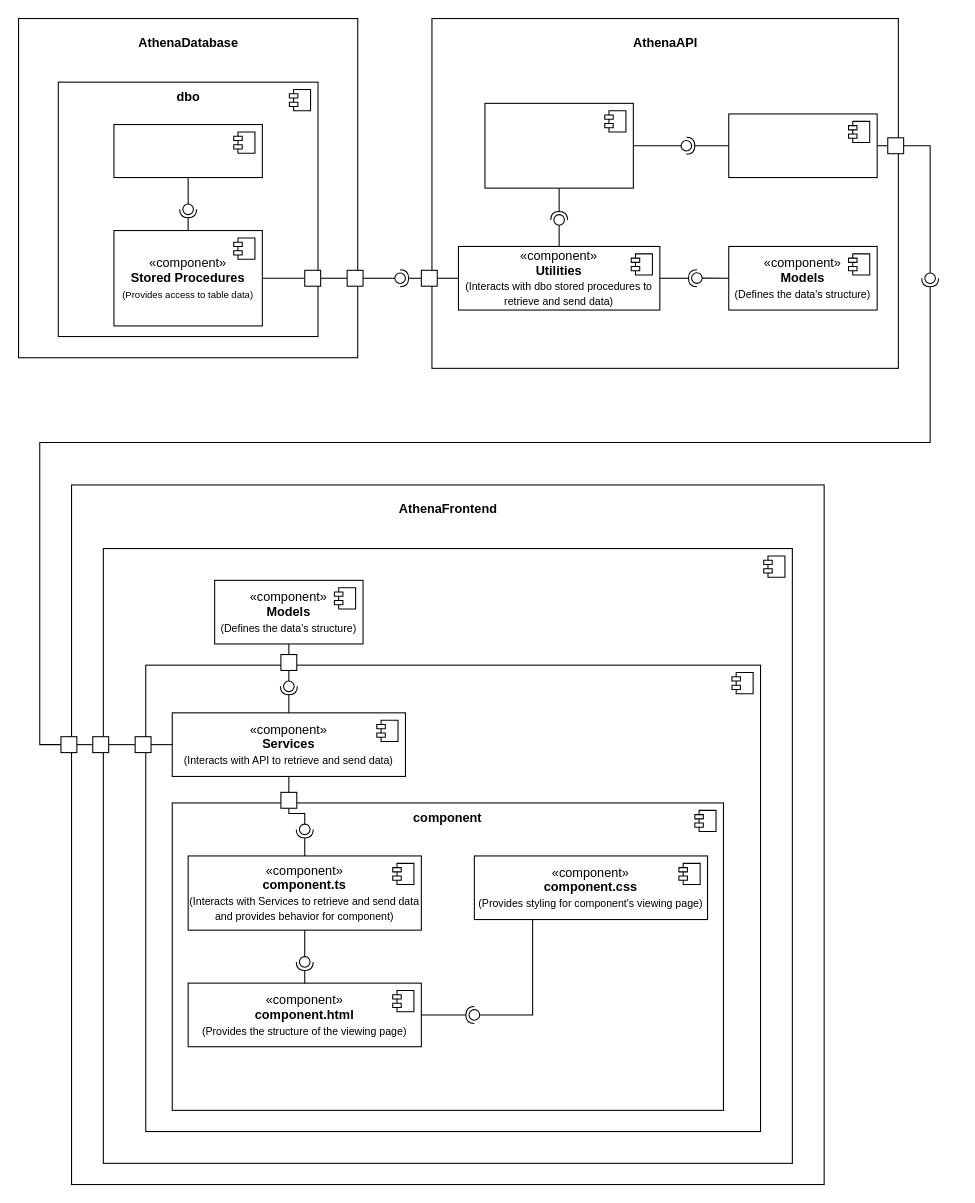
Some shapes in this 975 by 1203 pixel diagram are drawn without their labels. Here are the shapes that lost their labels. From the top down, the box of each, then its label:
(113, 123, 262, 178): «component» Tables (Contains Data)
(484, 102, 633, 188): «component» Controllers (Controls the dataflow and behavior of the views)
(728, 113, 877, 178): «component» View (Displays data to users)
(102, 547, 792, 1163): src
(145, 664, 761, 1132): app
